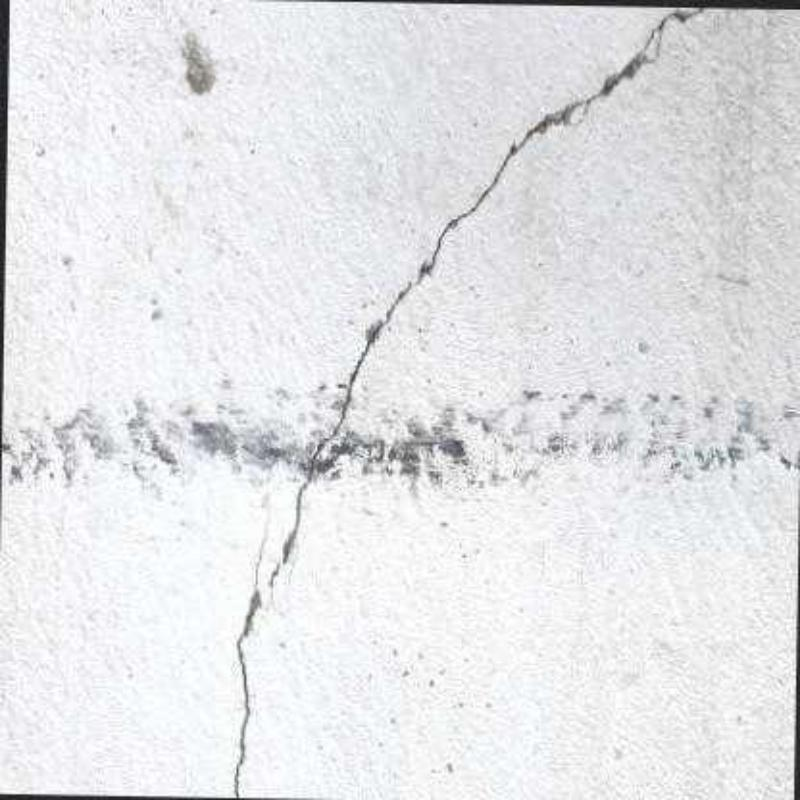pothole: (271, 8, 712, 601), (235, 538, 265, 798)
